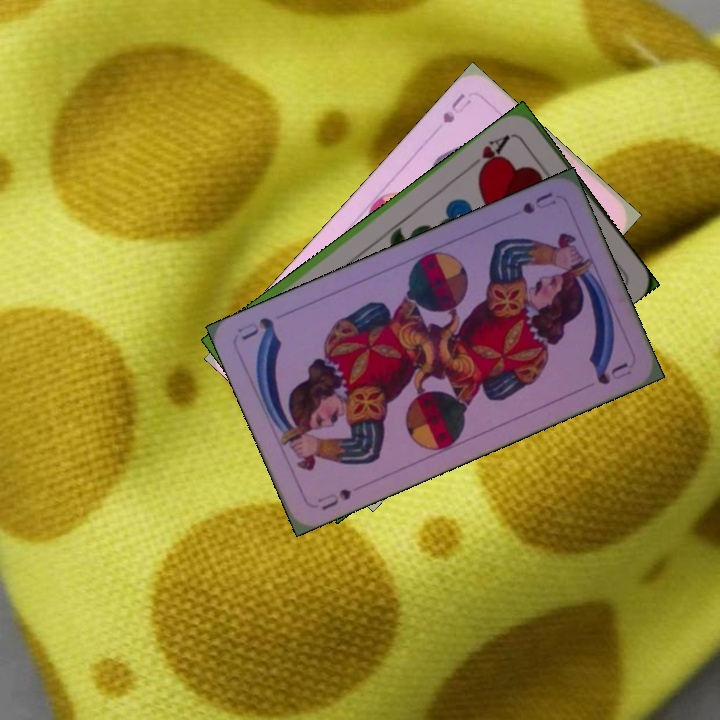HA: (473, 130, 516, 177)
SU: (438, 88, 474, 126), (518, 188, 559, 217), (313, 484, 354, 513)
